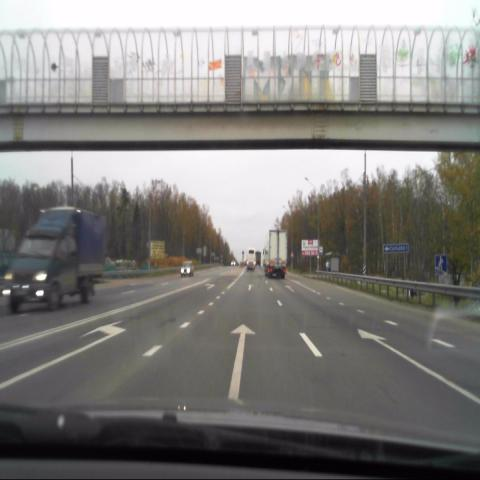6_7: (434, 254, 446, 274)
